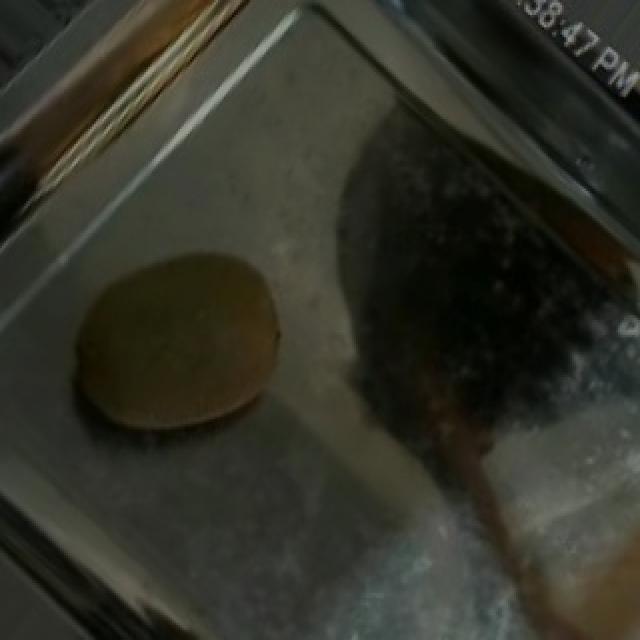Fruit: (30, 216, 316, 479), (468, 451, 640, 640)
